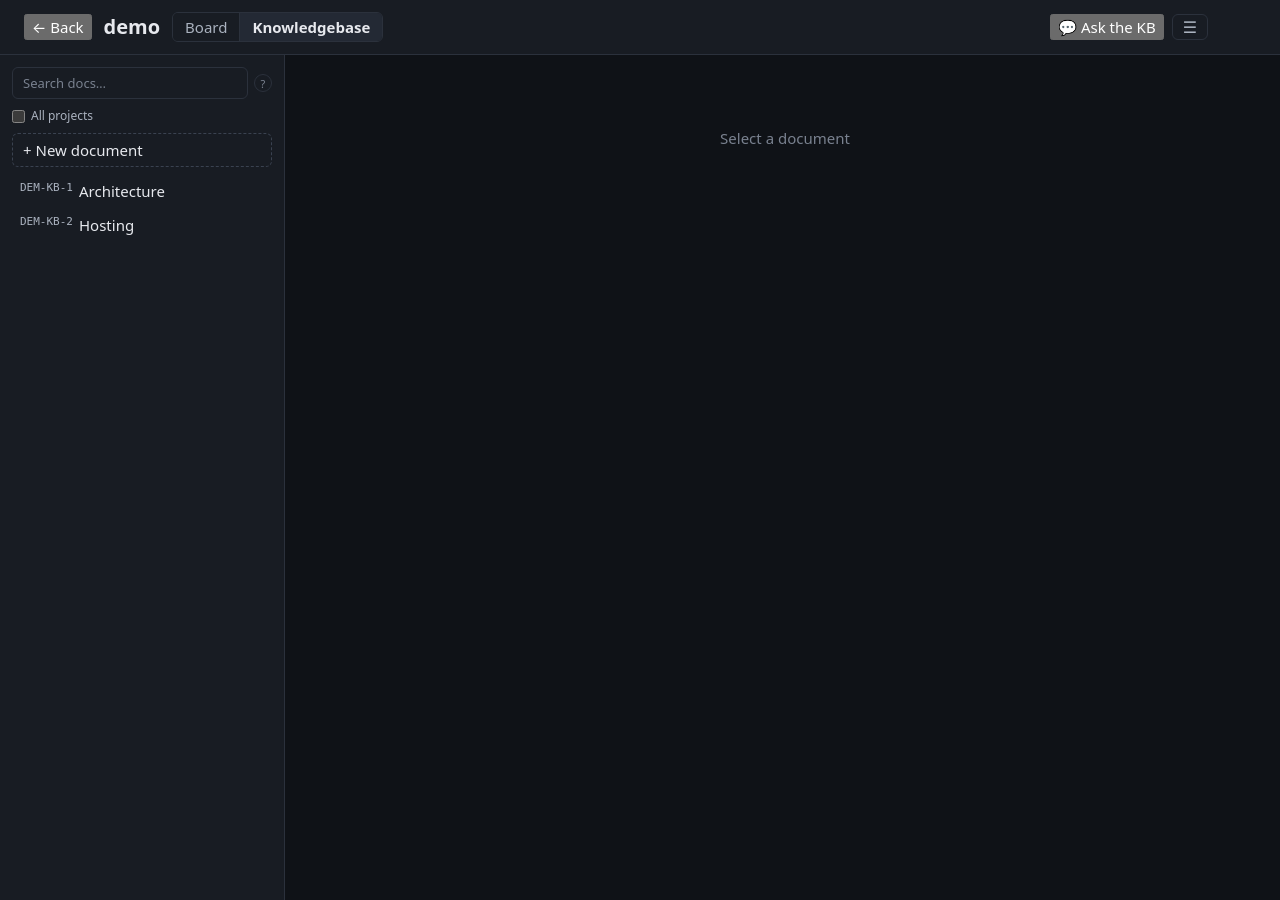
Test case: KnowledgeBase › clearing the search restores the full doc list
Expected: the text "Hosting" is shown, [79,215,134,235]
Type "arch" into the field with placeholder "Search docs…".
click(130, 83); type("arch")  # box [12,67,248,99]
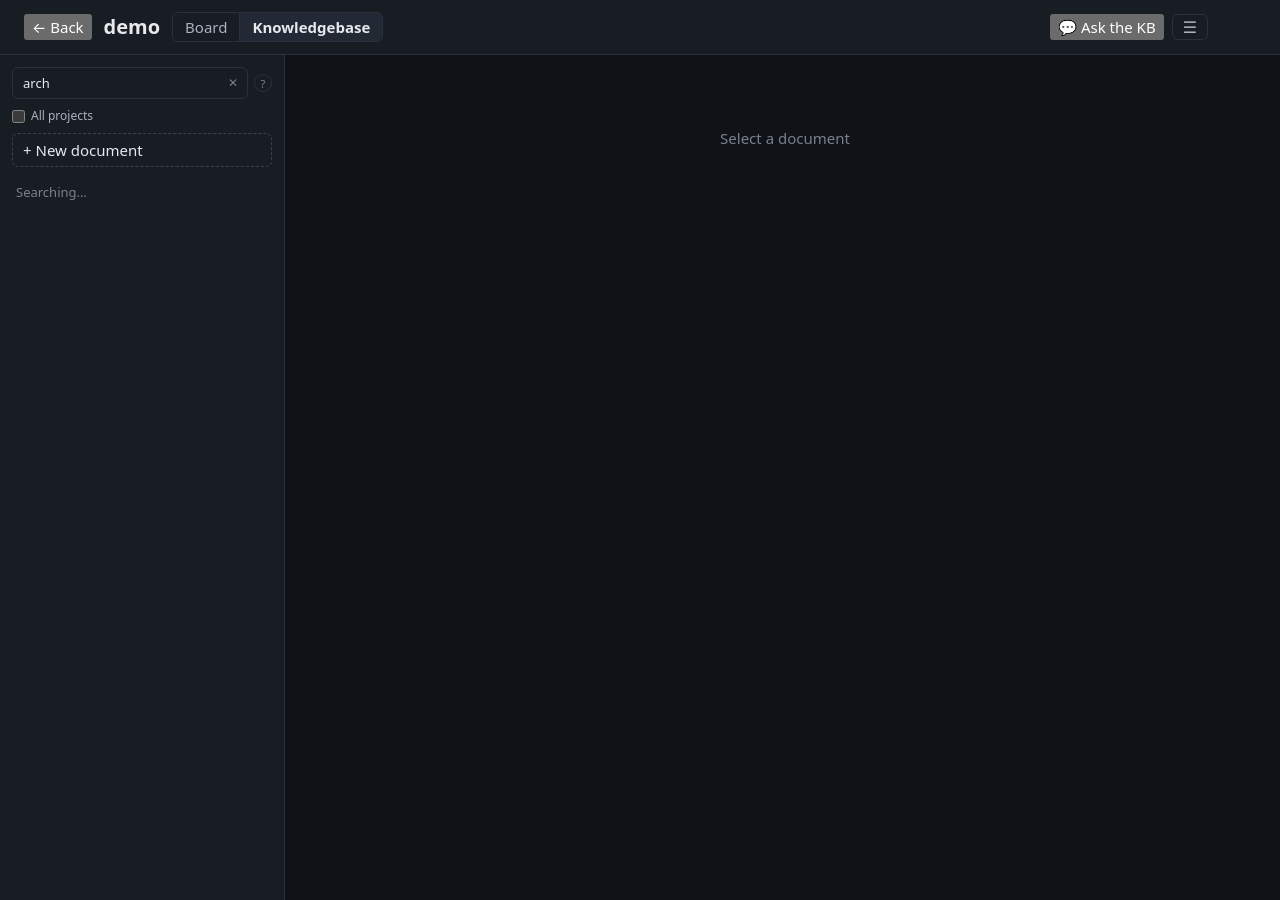
Now the button "Hosting" is gone
Click the button named "Clear search".
click(233, 83)  # box [222,75,244,91]
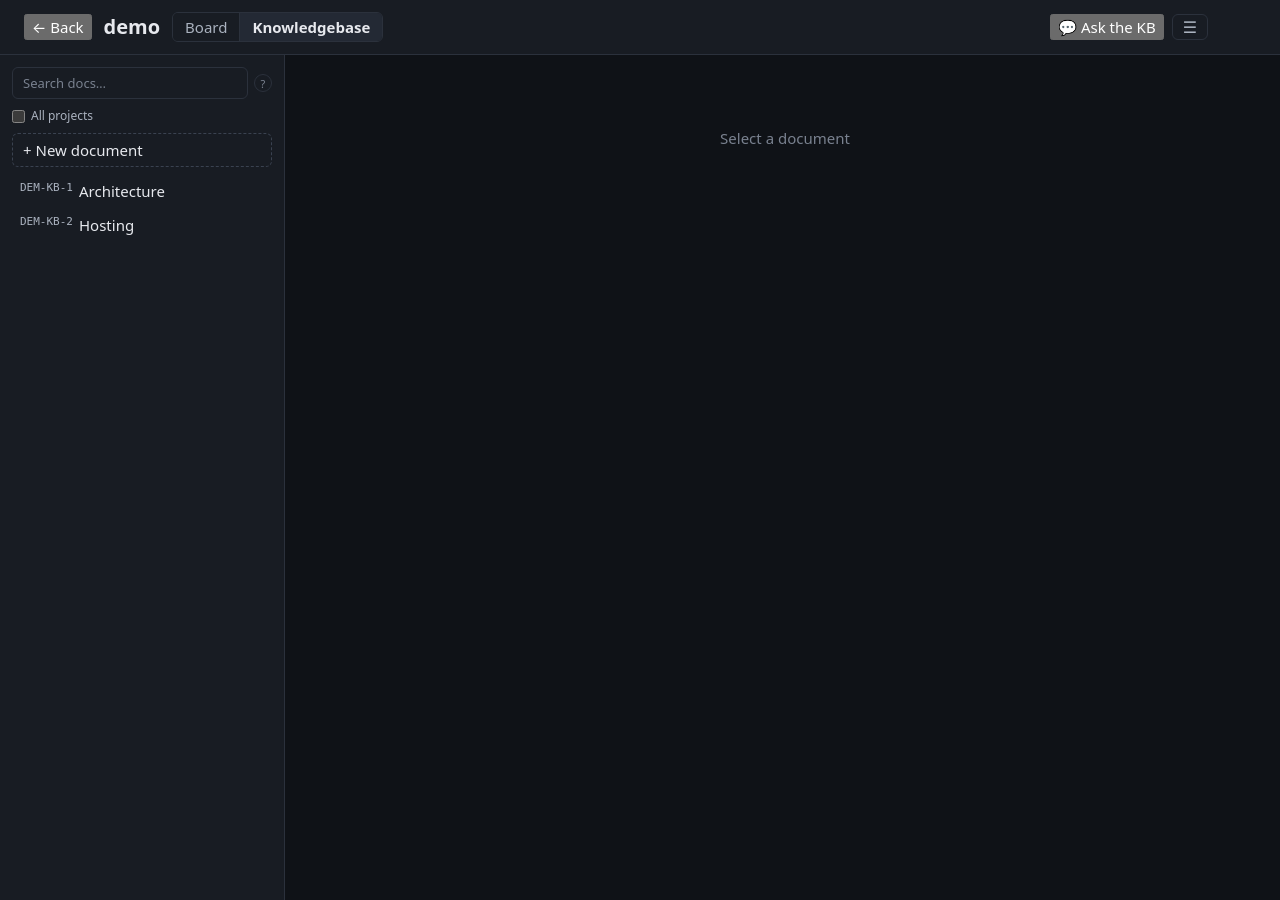
Now the text "Hosting" is shown, box [79,215,134,235]
Now the text "Architecture" is shown, box [79,181,165,201]
